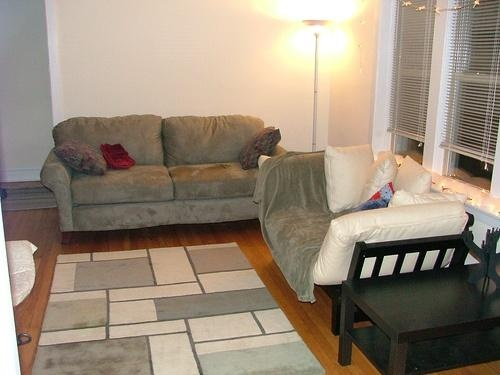sofa: (259, 146, 475, 323), (40, 114, 291, 225)
